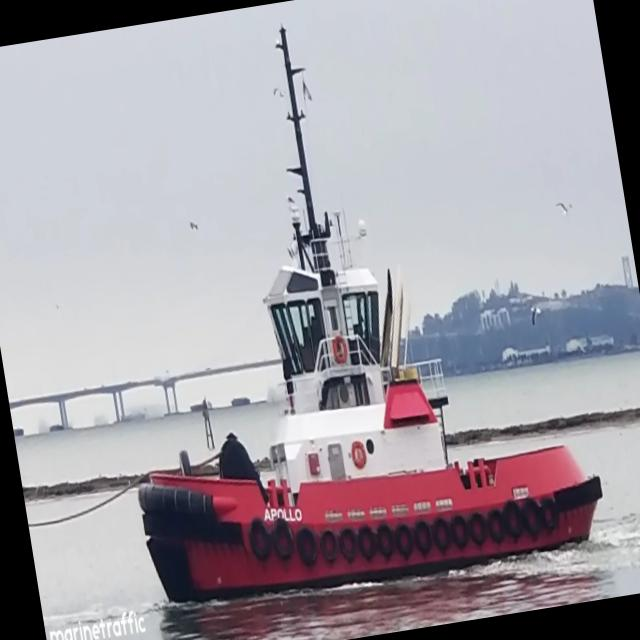Tug: (138, 27, 602, 602)
